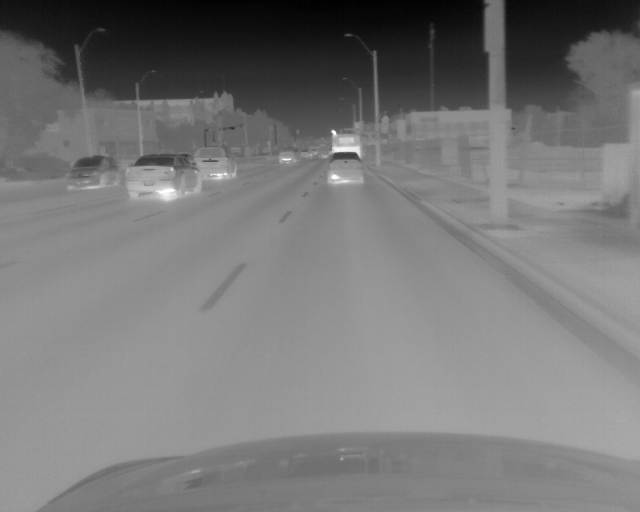car: (125, 153, 200, 200), (65, 155, 121, 190), (196, 145, 235, 181), (324, 152, 363, 185), (330, 131, 361, 162), (277, 148, 298, 164), (298, 149, 316, 160)
